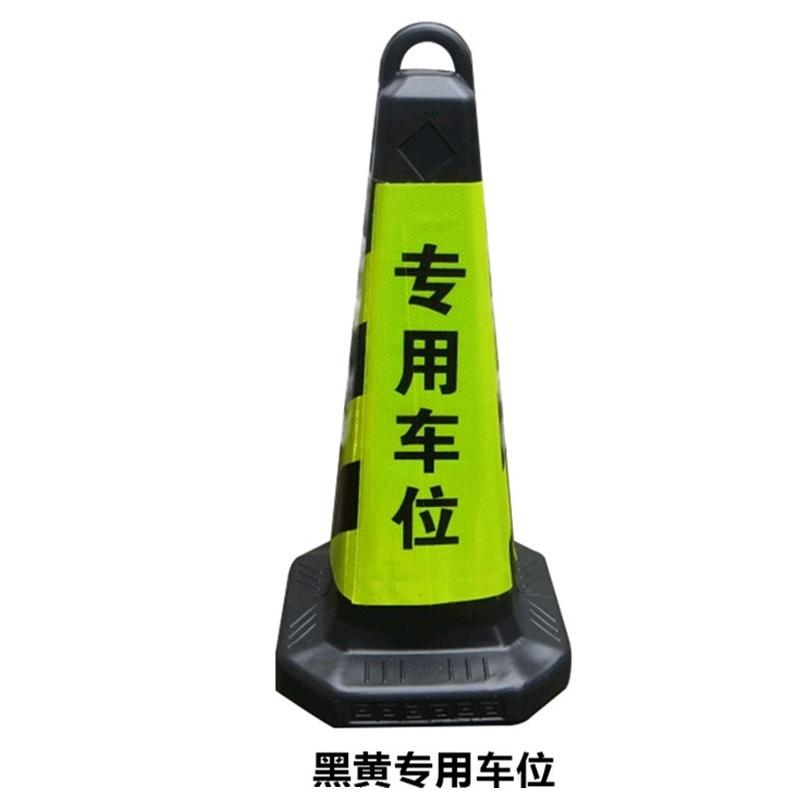cone_barrel: (272, 16, 573, 728)
